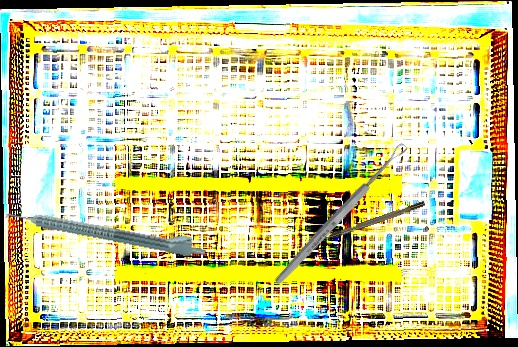Handpiece: (4, 198, 209, 261)
Hook Surgical: (312, 200, 426, 246)
Surgical Spoon: (272, 141, 410, 287)
